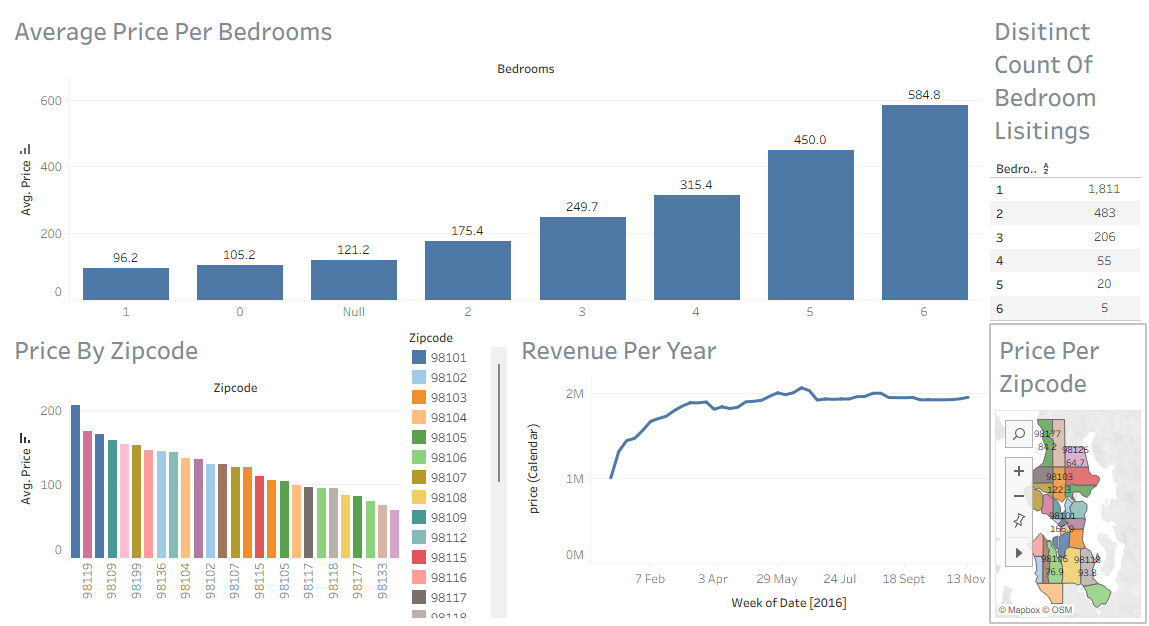

What the dashboard file says about the page in this screenshot:
{"tool":"tableau","page":{"name":"Dashboard 1","canvas":[1000,800],"ordinal":0},"visuals":[{"type":"worksheet","title":"Sheet 4","mark":"Automatic","rows":["price"],"cols":["bedrooms"],"box":[8,8,847,406]},{"type":"worksheet","title":"Sheet 5","mark":"Text","rows":["bedrooms"],"box":[855,8,137,406]},{"type":"worksheet","title":"Sheet 1","mark":"Automatic","rows":["price"],"cols":["zipcode"],"box":[8,414,345,378]},{"type":"legend","title":"Sheet 1","param":"[federated.18xdlru038txor1e6frv004pm47p].[none:zipcode:ok]","box":[353,414,93,378]},{"type":"worksheet","title":"Sheet 3","mark":"Automatic","rows":["price (Calendar)"],"cols":["date"],"box":[446,414,413.1,378]},{"type":"worksheet","title":"Sheet 2","mark":"Multipolygon","box":[859.1,414,132.9,378]}]}

Visuals, with their boxes on the page's 1000x800 design canvas (x1, y1, x2, y2). These are canvas units, not pixel positions in the 1149x626 screenshot, which may show the page scaled, cropped or inside an application window:
"Sheet 4" worksheet: locate(8, 8, 855, 414)
"Sheet 5" worksheet (Text marks): locate(855, 8, 992, 414)
"Sheet 1" worksheet: locate(8, 414, 353, 792)
"Sheet 1" legend: locate(353, 414, 446, 792)
"Sheet 3" worksheet: locate(446, 414, 859, 792)
"Sheet 2" worksheet (Multipolygon marks): locate(859, 414, 992, 792)
